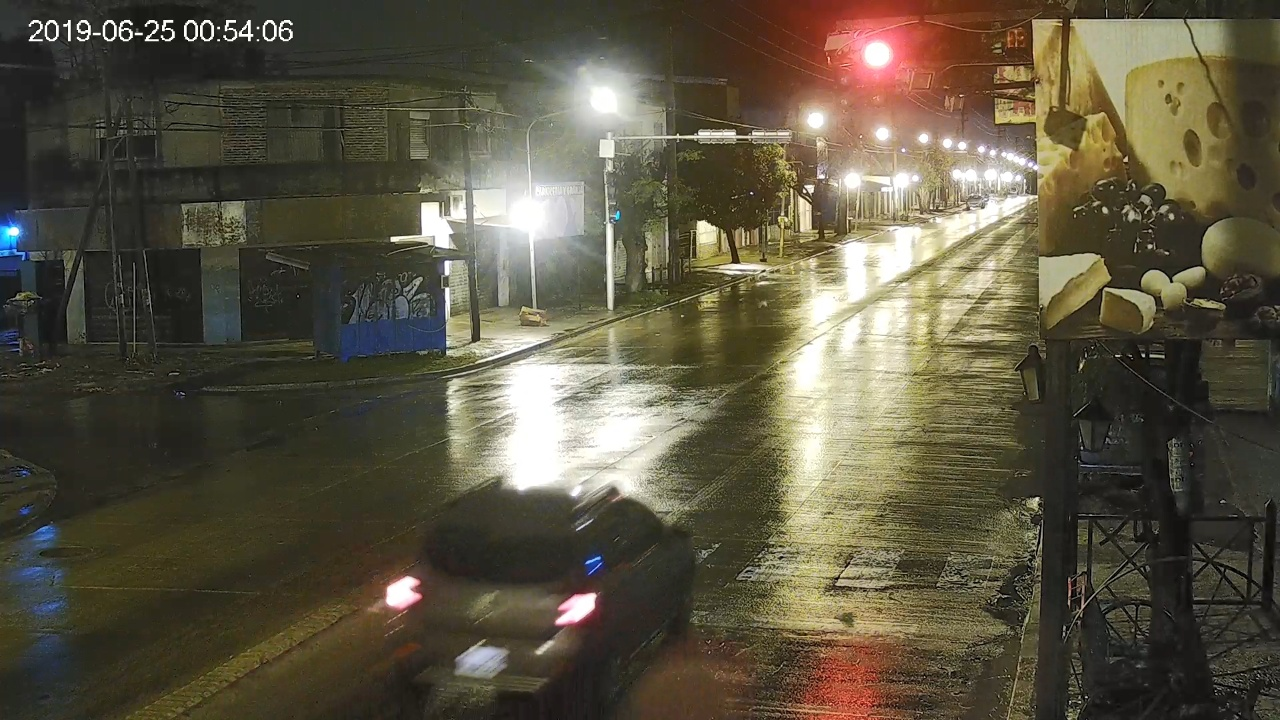car: (388, 478, 695, 720)
traffic light: (866, 42, 888, 106)
